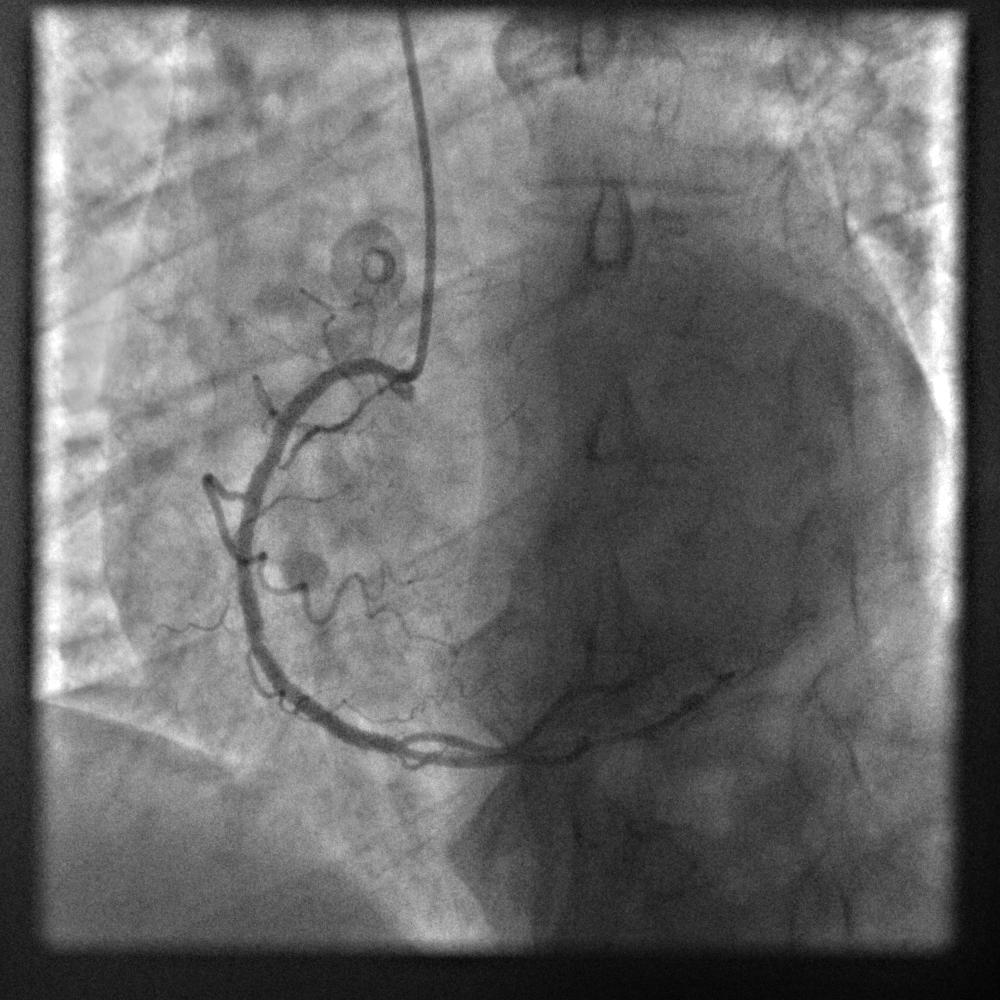Stenosis: (248, 415, 293, 475)
